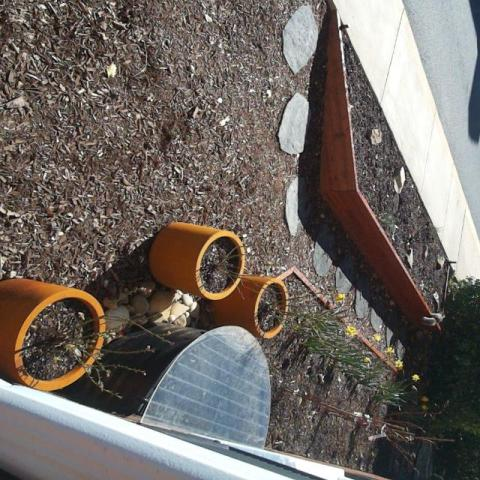small_animal: (421, 311, 446, 328)
